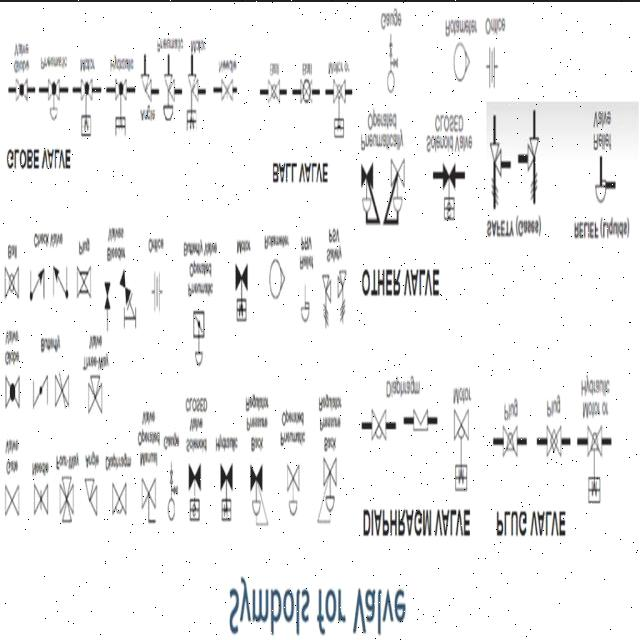3 Way Gate Valve: (82, 371, 107, 416)
4 Way Gate Valve: (56, 472, 78, 526)
Angle Valve: (76, 476, 100, 534), (142, 62, 154, 105)
BackPressure Regulator: (314, 446, 348, 524), (384, 154, 410, 228)
Ball Valve: (256, 77, 288, 106), (290, 76, 316, 106), (4, 262, 22, 302)
Bleeder Valve: (115, 266, 141, 335), (100, 279, 112, 331)
Butterfly Valve: (52, 368, 76, 412), (30, 372, 48, 414)
Check Valve: (46, 266, 74, 304), (24, 260, 46, 306)
Cock Valve: (135, 474, 163, 530)
Diaphragm Valve: (408, 402, 444, 436), (368, 398, 392, 447), (106, 479, 132, 522)
Gate Valve: (2, 478, 22, 520)
Gauge: (376, 34, 410, 90), (162, 464, 184, 526)
Globe Valve: (0, 368, 26, 420), (10, 80, 35, 110)
Hydraulic Closed Valve: (201, 454, 238, 532)
Hydraulic Operated Globe Valve: (112, 75, 134, 136)
Motor Operated Angle Valve: (184, 61, 207, 136)
Motor Operated Diaphragm Valve: (450, 403, 480, 492)
Motor Operated Globe Valve: (326, 73, 358, 143), (78, 73, 98, 138)
Motor Operated Plug Valve: (574, 428, 609, 516)
Motor closed Gate Valve: (227, 268, 255, 334)
Needle Valve: (27, 480, 52, 520), (216, 75, 242, 102)
Orifice: (478, 43, 513, 88), (148, 265, 170, 323)
PRV: (586, 146, 626, 198), (294, 284, 314, 322)
PSV: (514, 104, 558, 208), (337, 252, 361, 322), (489, 108, 505, 212), (319, 269, 337, 323)
Plug Valve: (70, 255, 92, 308), (499, 422, 523, 467), (540, 426, 566, 464)
Pneumatic-Diaphragm Angle Valve: (161, 59, 179, 124)
Pneumatic-Diaphragm Butterfly Valve: (192, 302, 210, 374)
Pneumatic-Diaphragm Gate Valve: (276, 462, 306, 518)
Pneumatic-Diaphragm Globe Valve: (41, 70, 66, 122)
Pressure Regulator: (347, 156, 381, 230), (249, 452, 277, 530)
Rotameter: (267, 252, 289, 300), (452, 38, 473, 86)
Solenoid Closed Valve: (434, 152, 456, 225), (182, 460, 204, 532)
